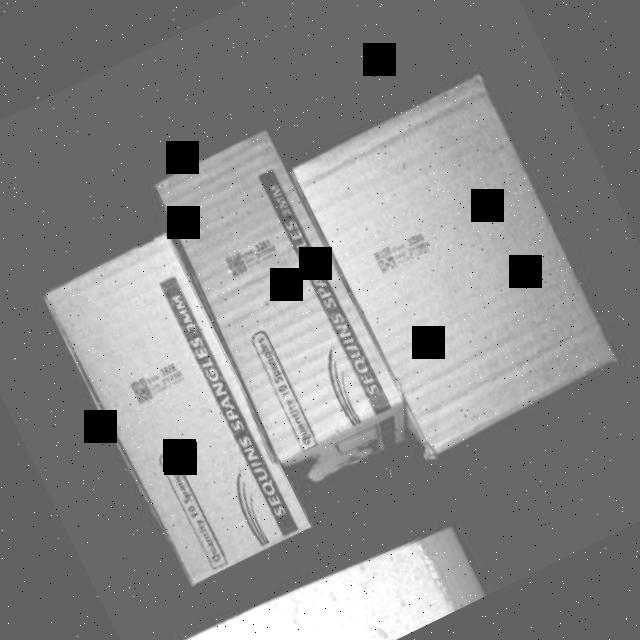box: (293, 75, 616, 450), (42, 228, 308, 573), (146, 123, 408, 467), (314, 524, 316, 527)
